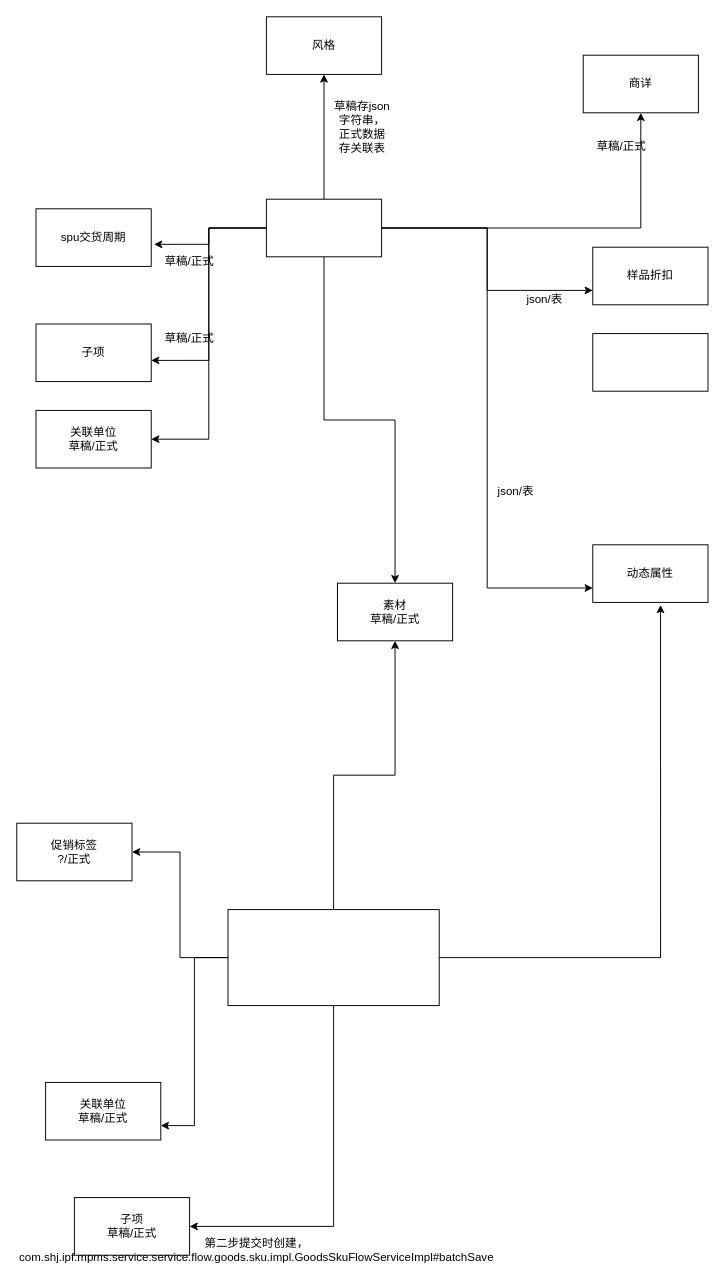
Image size: 725x1282. Some labels were removed from this diagram. Here are the shapes that lost their labels. From the top down, the centre of each, then its label:
At (x=323, y=227): "商品Spu".
At (x=650, y=362): "采购提前期".
At (x=333, y=957): "商品SKU草稿".
